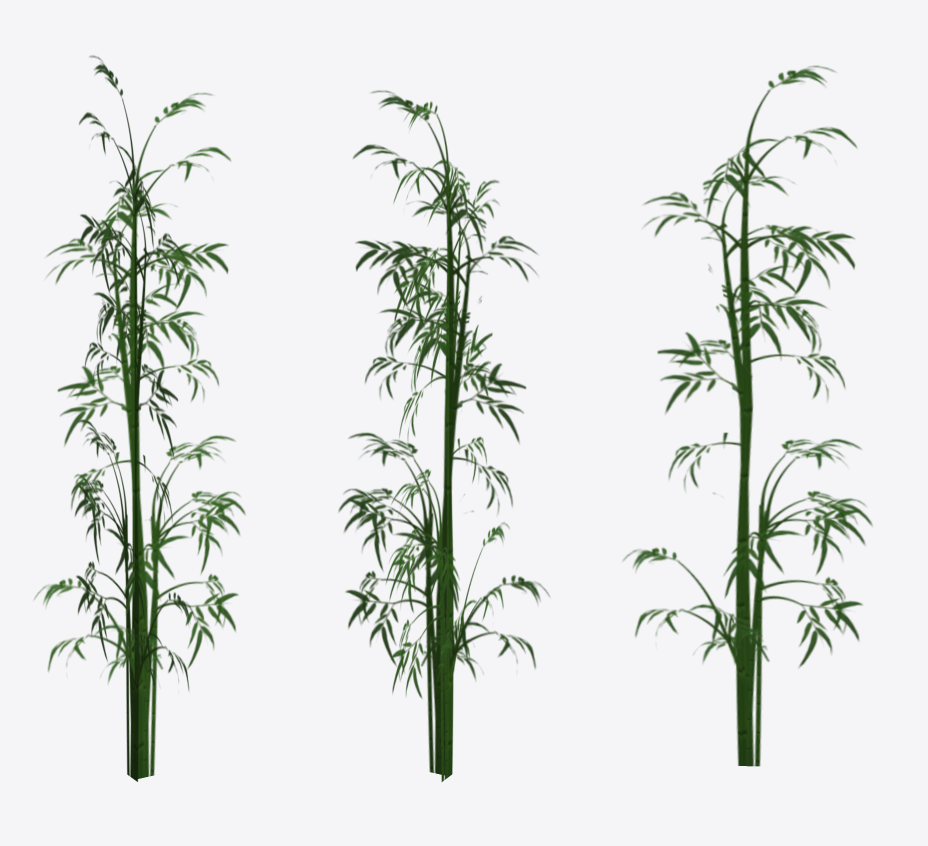
File: smallBambooTree.glb
The picture shows the model from 3 angles, left to right: view 1: azimuth 30°, elevation 25°; view 2: azimuth 150°, elevation 25°; view 3: azimuth 270°, elevation 25°; orthographic projection.
Parts seen in each view (by area): view 1: bamboo shrub 3; view 2: bamboo shrub 3; view 3: bamboo shrub 3.
Boxes of the visible parts, x1=… form: bamboo shrub 3: x1=34, y1=55, x2=245, y2=781; bamboo shrub 3: x1=338, y1=90, x2=549, y2=781; bamboo shrub 3: x1=622, y1=65, x2=872, y2=766.
Size of the model in its own units: 1.15 by 2.97 by 1.18.
1 material, 1 textured.
